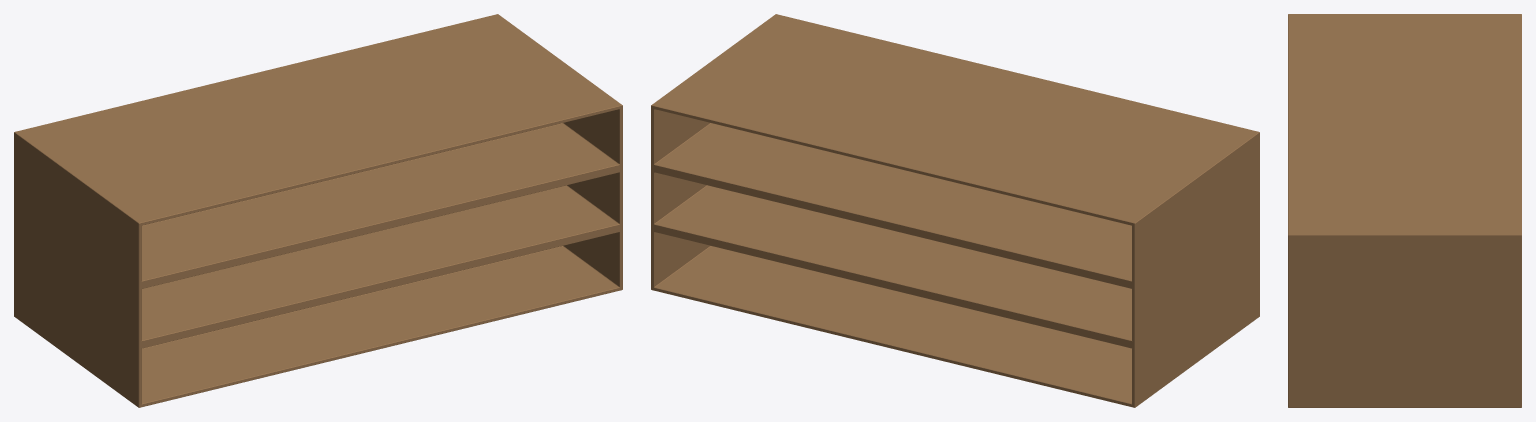
Rendered from Centrl_display_unit.fbx.
The picture shows the model from 3 angles, left to right: view 1: azimuth 30°, elevation 25°; view 2: azimuth 150°, elevation 25°; view 3: azimuth 270°, elevation 25°; orthographic projection. The views are drawn at different scales.
Visible parts, largest first — view 1: Exp_central; view 2: Exp_central; view 3: Exp_central.
Boxes of the visible parts, x1,y1,x2,y2 form: Exp_central: [14, 14, 622, 407]; Exp_central: [651, 14, 1259, 407]; Exp_central: [1288, 14, 1521, 407].
Bounding box in the file's own units: 740 × 270 × 331.
